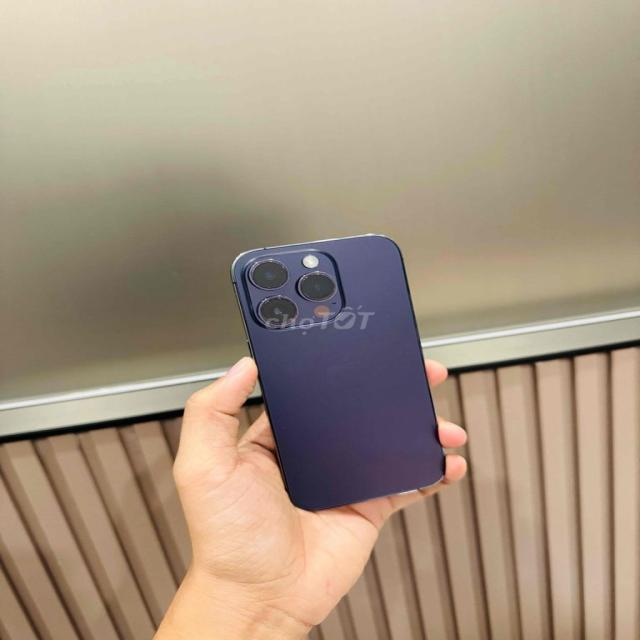gen_14: (232, 223, 452, 528)
